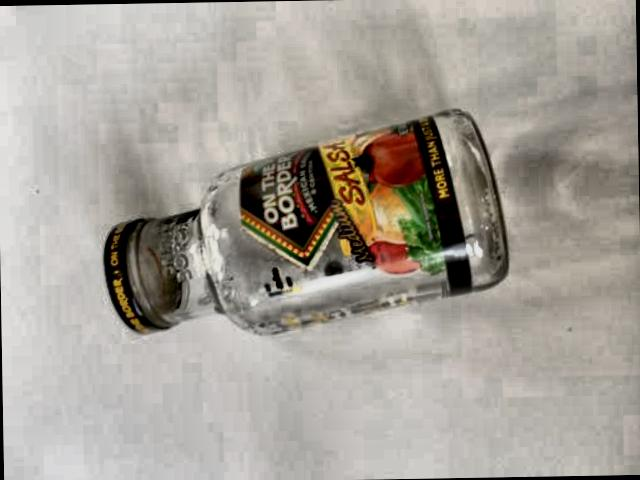Almennt: (75, 89, 532, 373)
